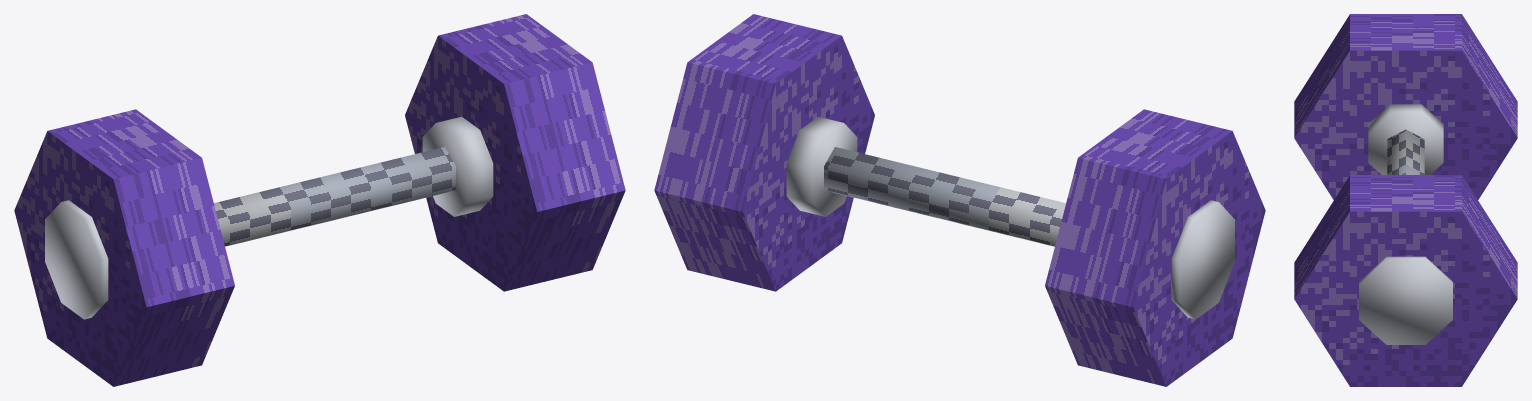
Rendered from life-dumbbell.glb.
The picture shows the model from 3 angles, left to right: view 1: azimuth 30°, elevation 25°; view 2: azimuth 150°, elevation 25°; view 3: azimuth 270°, elevation 25°; orthographic projection. The views are drawn at different scales.
Parts seen in each view (by area): view 1: life.dumbbell; view 2: life.dumbbell; view 3: life.dumbbell.
Part boxes in pixels (bbox=[...]): life.dumbbell: bbox=[14, 14, 625, 386]; life.dumbbell: bbox=[654, 14, 1265, 386]; life.dumbbell: bbox=[1294, 14, 1517, 386].
Bounding box in the file's own units: 1.86 × 0.7473 × 0.8629.
3 materials, 3 textured.
